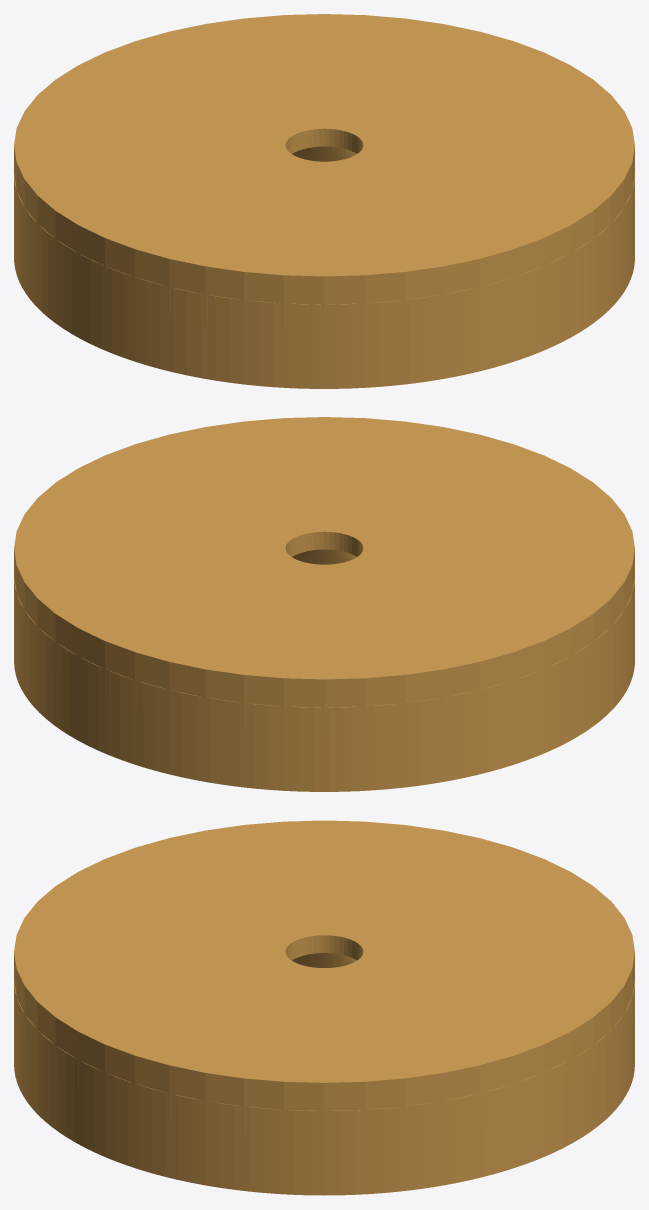
Rendered from rav_frame_feet.glb.
3 renders of one model, top to bottom at view 1: azimuth 30°, elevation 25°; view 2: azimuth 150°, elevation 25°; view 3: azimuth 270°, elevation 25°, orthographic.
Visible parts, largest first — view 1: Mesh_Mesh_head_geo.001_lambert2SG.001; view 2: Mesh_Mesh_head_geo.001_lambert2SG.001; view 3: Mesh_Mesh_head_geo.001_lambert2SG.001.
Boxes of the visible parts, x1,y1,x2,y2 form: Mesh_Mesh_head_geo.001_lambert2SG.001: (14, 14, 634, 388); Mesh_Mesh_head_geo.001_lambert2SG.001: (14, 417, 634, 791); Mesh_Mesh_head_geo.001_lambert2SG.001: (14, 820, 634, 1195).
Size of the model in its own units: 0.02 by 0.004 by 0.02.
